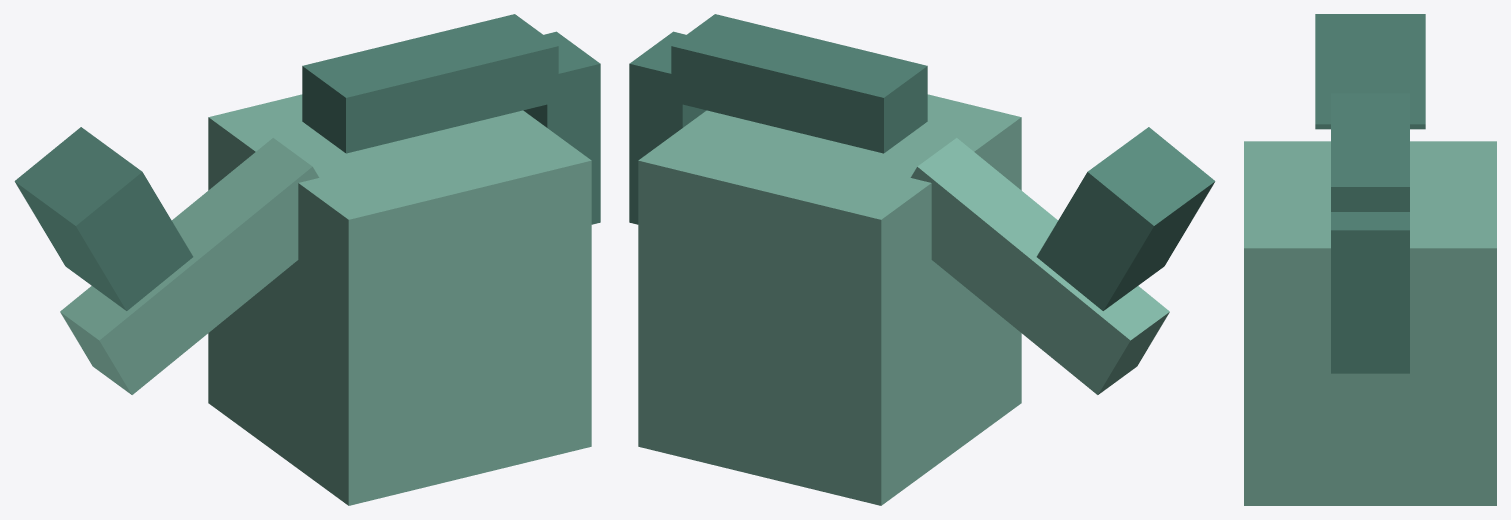
File: watering-can.glb
The picture shows the model from 3 angles, left to right: view 1: azimuth 30°, elevation 25°; view 2: azimuth 150°, elevation 25°; view 3: azimuth 270°, elevation 25°; orthographic projection. The views are drawn at different scales.
Parts seen in each view (by area): view 1: body, spout, handleTop, rose, handleSide; view 2: body, spout, handleTop, rose, handleSide; view 3: body, handleSide, rose, handleTop.
Part boxes in pixels (x1=…): body: x1=208, y1=94, x2=591, y2=505; spout: x1=60, y1=138, x2=319, y2=394; handleTop: x1=302, y1=14, x2=558, y2=153; rose: x1=14, y1=127, x2=193, y2=310; handleSide: x1=523, y1=31, x2=600, y2=224; body: x1=638, y1=94, x2=1021, y2=505; spout: x1=910, y1=138, x2=1169, y2=394; handleTop: x1=671, y1=14, x2=927, y2=153; rose: x1=1036, y1=127, x2=1215, y2=310; handleSide: x1=629, y1=31, x2=706, y2=224; body: x1=1244, y1=141, x2=1496, y2=505; handleSide: x1=1331, y1=212, x2=1409, y2=373; rose: x1=1315, y1=14, x2=1425, y2=129; handleTop: x1=1331, y1=93, x2=1409, y2=211.
Bounding box in the file's own units: 0.3512 × 0.2275 × 0.16.
